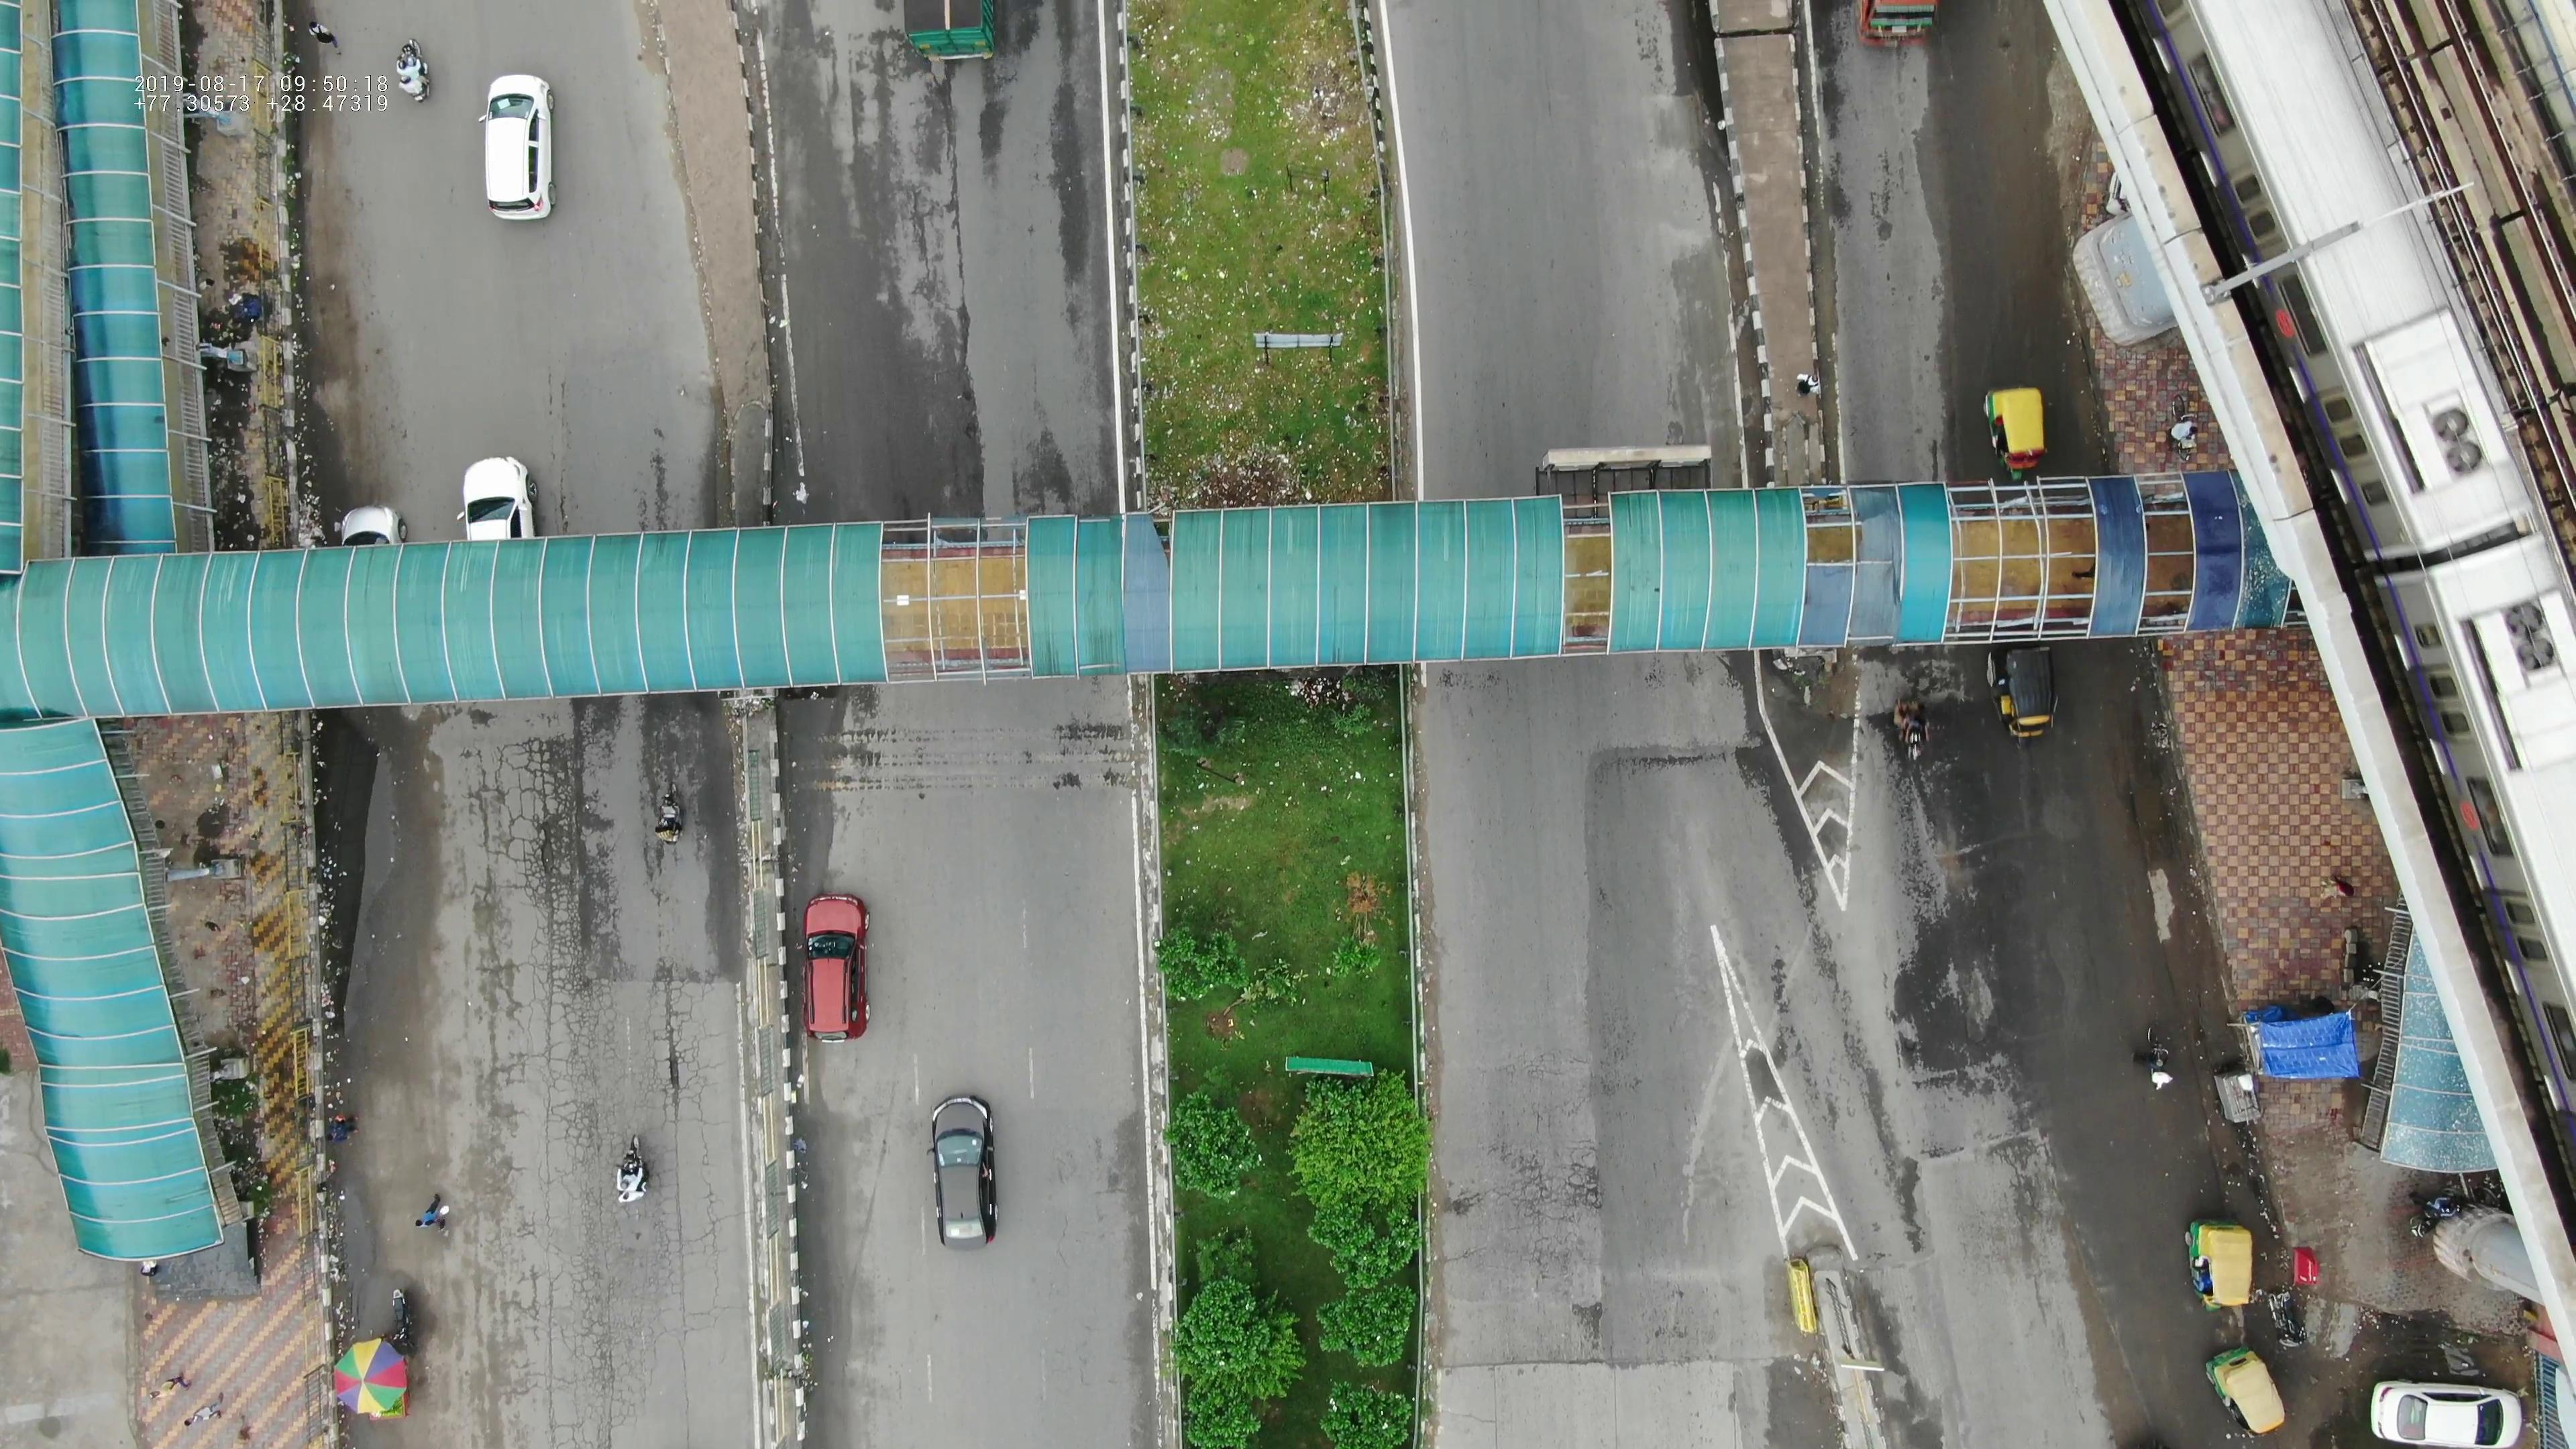Alligator_cracks: (439, 763, 718, 1047), (488, 1260, 720, 1435), (1454, 1053, 1622, 1263)
